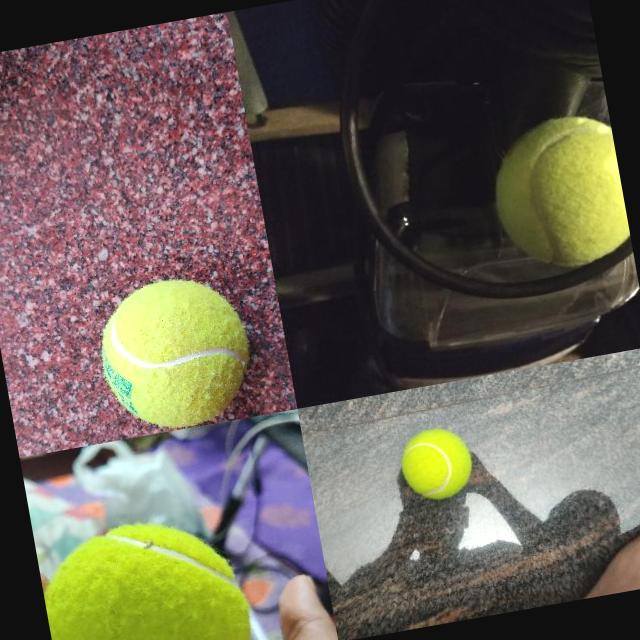Tennis Ball: (34, 502, 259, 640), (90, 268, 261, 436), (480, 107, 634, 280), (396, 422, 477, 503)
